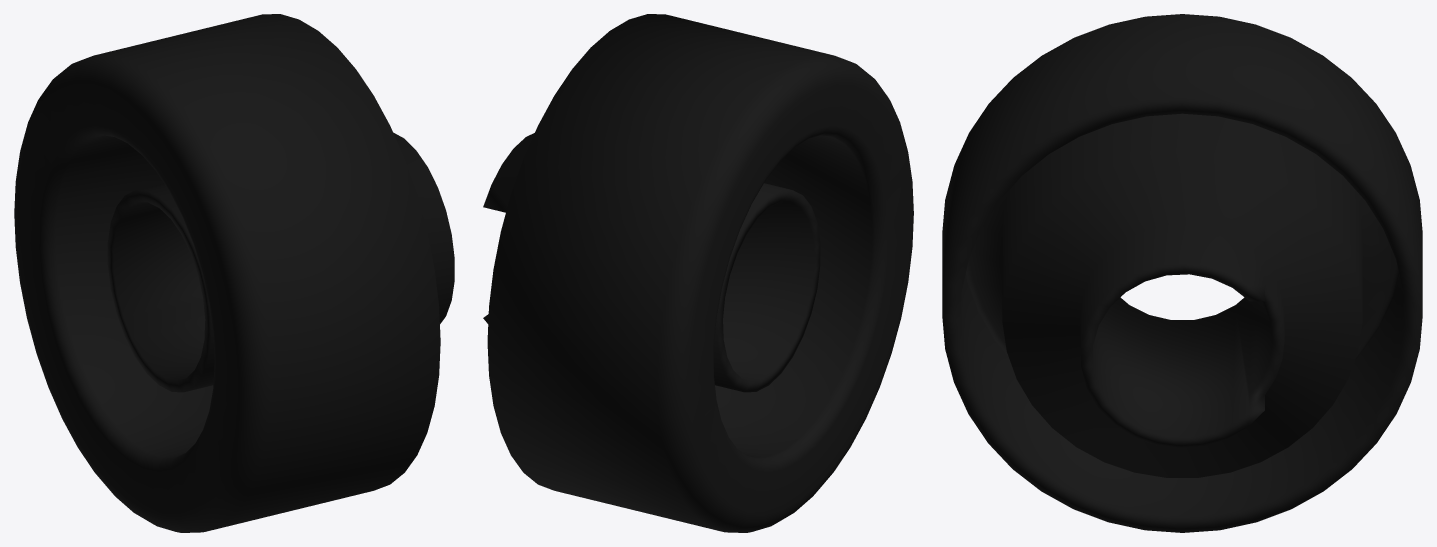
File: RearWheelLeft.obj
The picture shows the model from 3 angles, left to right: view 1: azimuth 30°, elevation 25°; view 2: azimuth 150°, elevation 25°; view 3: azimuth 270°, elevation 25°; orthographic projection.
Parts seen in each view (by area): view 1: RearWheelLeft; view 2: RearWheelLeft; view 3: RearWheelLeft.
Boxes of the visible parts, left/top/right/bottom form: RearWheelLeft: left=14, top=14, right=454, bottom=532; RearWheelLeft: left=483, top=14, right=913, bottom=532; RearWheelLeft: left=942, top=14, right=1422, bottom=532.
Bounding box in the file's own units: 0.026 × 0.04 × 0.04.
1 material, 1 textured.
